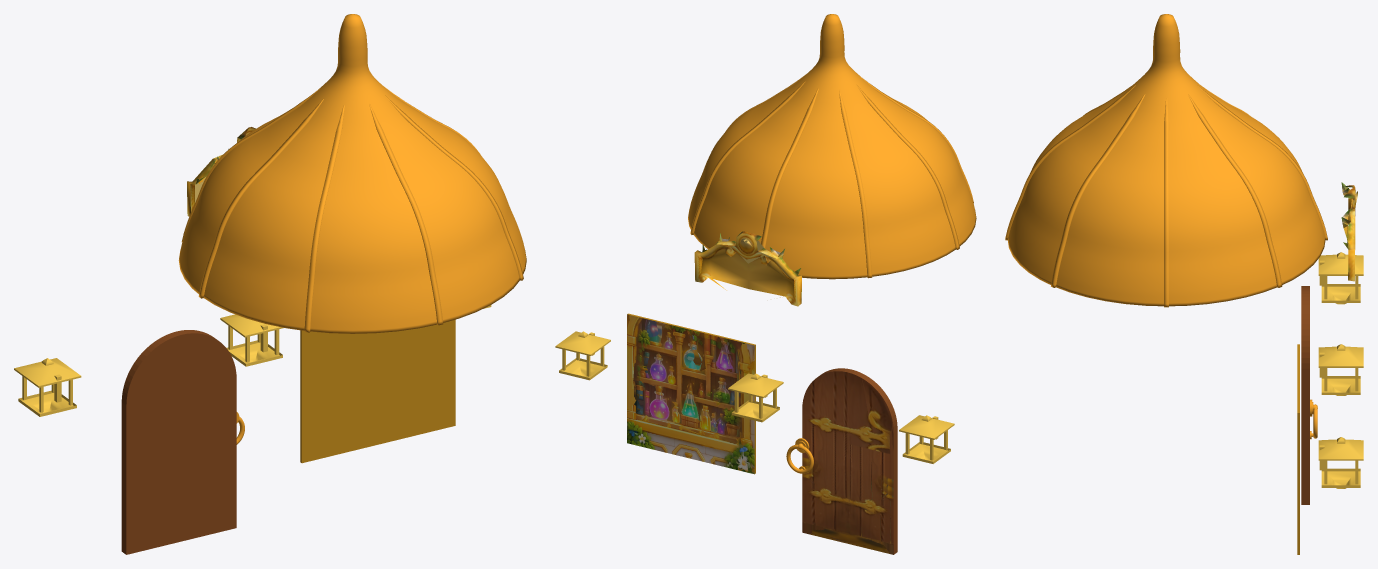
The model's file is HaloShop_Potion_deco.glb.
The picture shows the model from 3 angles, left to right: view 1: azimuth 30°, elevation 25°; view 2: azimuth 150°, elevation 25°; view 3: azimuth 270°, elevation 25°; orthographic projection. The views are drawn at different scales.
Parts seen in each view (by area): view 1: HaloShop_Potion_Dome, HaloShop_Potion_Leaf, HaloShop_Potion_Display.001, HaloShop_Potion_DomeRibs, HaloShop_Potion_Lantern2, HaloShop_Potion_Lantern1; view 2: HaloShop_Potion_Dome, HaloShop_Potion_Display.001, HaloShop_Potion_Leaf, HaloShop_Potion_Sign, HaloShop_Potion_DomeRibs, HaloShop_Potion_Lantern1, HaloShop_Potion_Lantern0, HaloShop_Potion_Lantern2; view 3: HaloShop_Potion_Dome, HaloShop_Potion_DomeRibs, HaloShop_Potion_Leaf, HaloShop_Potion_Lantern0, HaloShop_Potion_Lantern1, HaloShop_Potion_Lantern2, HaloShop_Potion_Sign, HaloShop_Potion_Display.001.
Boxes of the visible parts, box(x1,y1,x2,y2) form: HaloShop_Potion_Dome: box(178, 14, 526, 333); HaloShop_Potion_Leaf: box(121, 330, 236, 554); HaloShop_Potion_Display.001: box(300, 319, 455, 463); HaloShop_Potion_DomeRibs: box(181, 87, 523, 332); HaloShop_Potion_Lantern2: box(14, 358, 81, 416); HaloShop_Potion_Lantern1: box(220, 314, 283, 366); HaloShop_Potion_Dome: box(688, 14, 976, 279); HaloShop_Potion_Display.001: box(627, 313, 755, 474); HaloShop_Potion_Leaf: box(802, 368, 897, 554); HaloShop_Potion_Sign: box(694, 231, 801, 306); HaloShop_Potion_DomeRibs: box(690, 74, 973, 278); HaloShop_Potion_Lantern1: box(728, 373, 783, 422); HaloShop_Potion_Lantern0: box(555, 331, 610, 380); HaloShop_Potion_Lantern2: box(899, 415, 954, 463); HaloShop_Potion_Dome: box(1007, 14, 1325, 306); HaloShop_Potion_DomeRibs: box(1005, 85, 1327, 307); HaloShop_Potion_Leaf: box(1301, 286, 1309, 504); HaloShop_Potion_Lantern0: box(1318, 437, 1363, 488); HaloShop_Potion_Lantern1: box(1318, 344, 1363, 395); HaloShop_Potion_Lantern2: box(1318, 252, 1363, 304); HaloShop_Potion_Sign: box(1341, 182, 1357, 281); HaloShop_Potion_Display.001: box(1297, 344, 1299, 554).
Bounding box in the file's own units: 17.81 × 20.77 × 13.24.
Materials: 7 (3 with a texture image).
